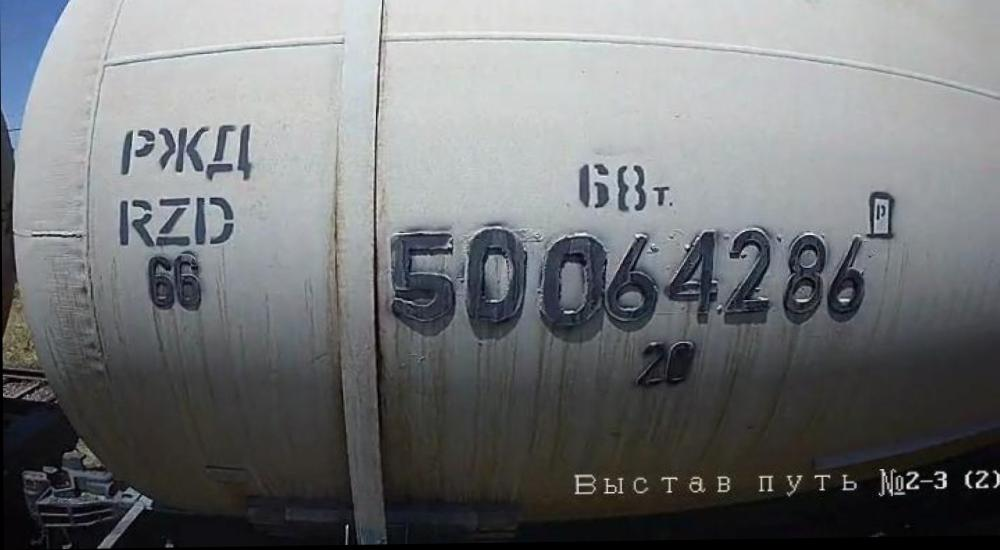Wagon-number: (388, 213, 872, 350)
